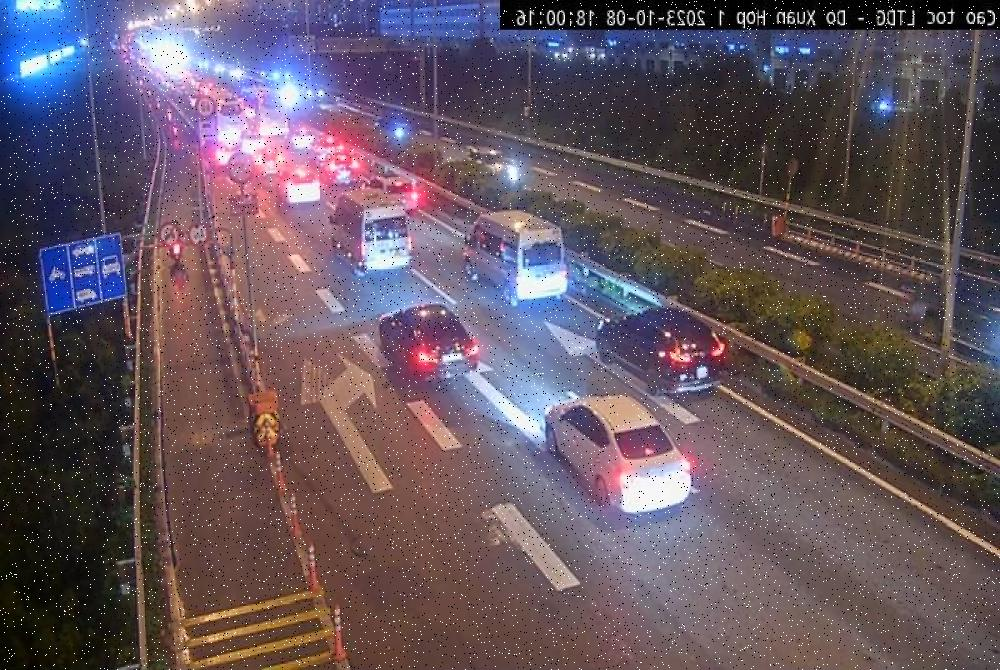car: (542, 395, 692, 514), (594, 306, 726, 397), (462, 212, 566, 307), (378, 304, 480, 384), (326, 192, 412, 277), (361, 177, 418, 214)
